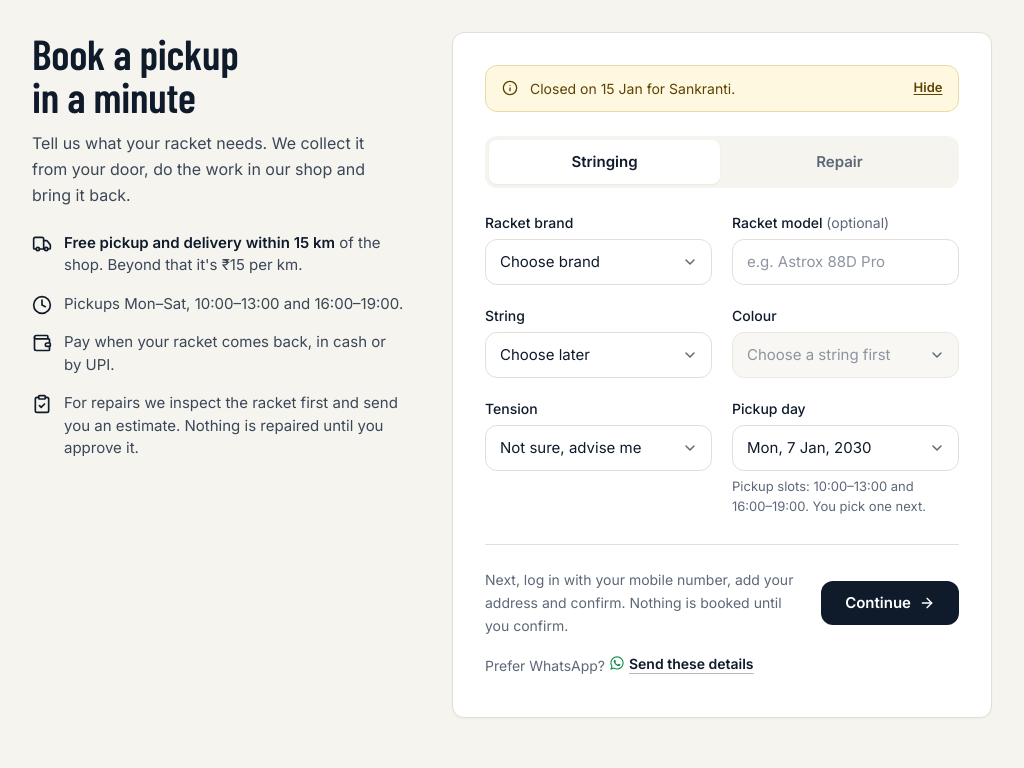
Test case: BookingSection › lists strings with gauge and price, and marks out-of-stock strings and colours
The image size is (1024, 768).
Select "Yonex BG 65 Titanium · 0.70 mm · ₹650" in the dropdown labelled "String". click: (598, 355)
box: [485,332,712,378]
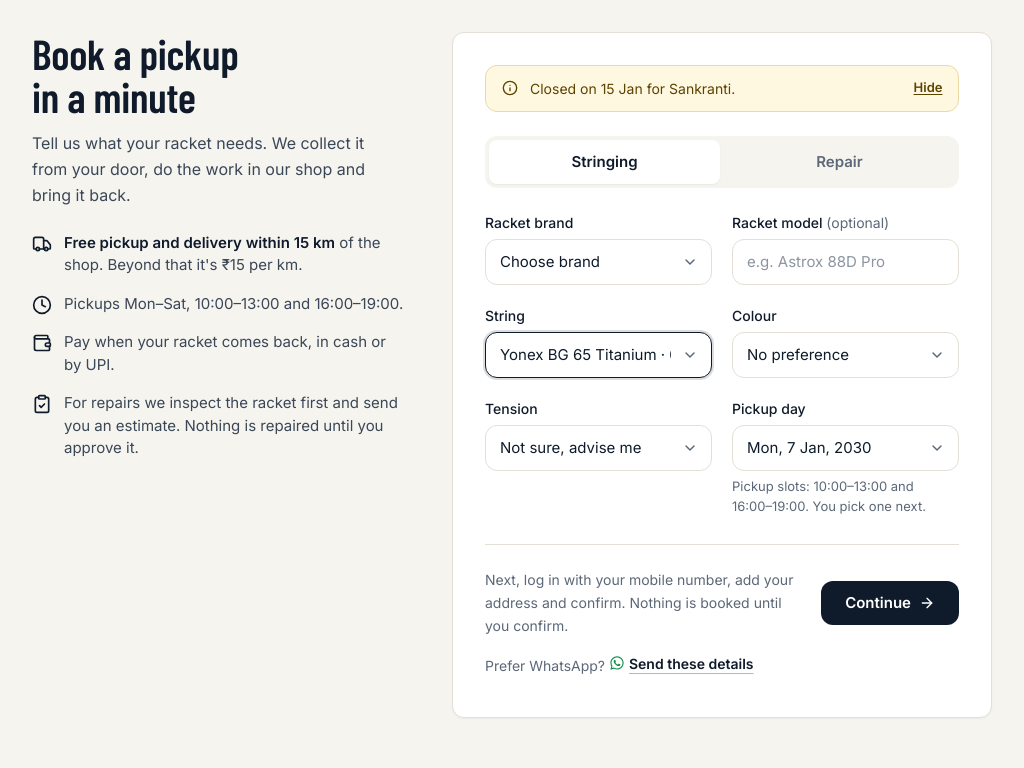
Result: the dropdown labelled "Colour" is enabled at [732,332,959,378]
